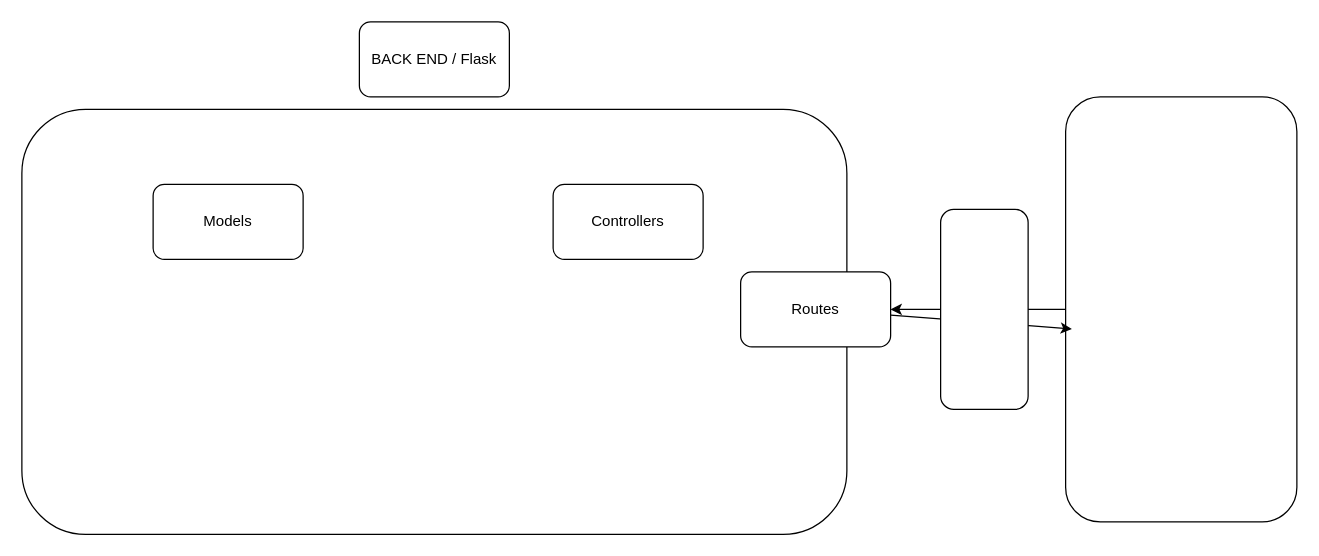
Image size: 1319x556. Some labels were removed from this diagram. The shapes that lost their labels are listed below. From the top down, each one's centre as x and y in pixels, then its label:
At (x=983, y=308): "Verbe GET POST PUT DELETE".
At (x=1180, y=309): "FRONT END".
